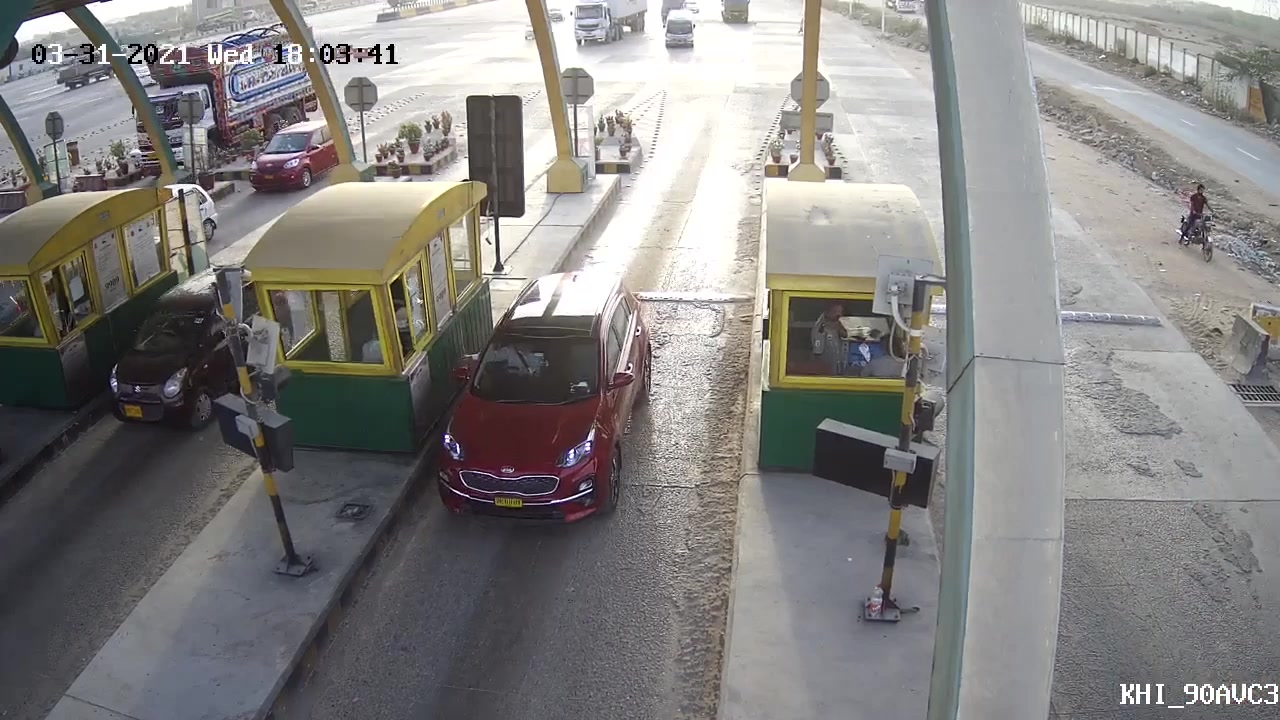F1: (425, 258, 664, 531)
